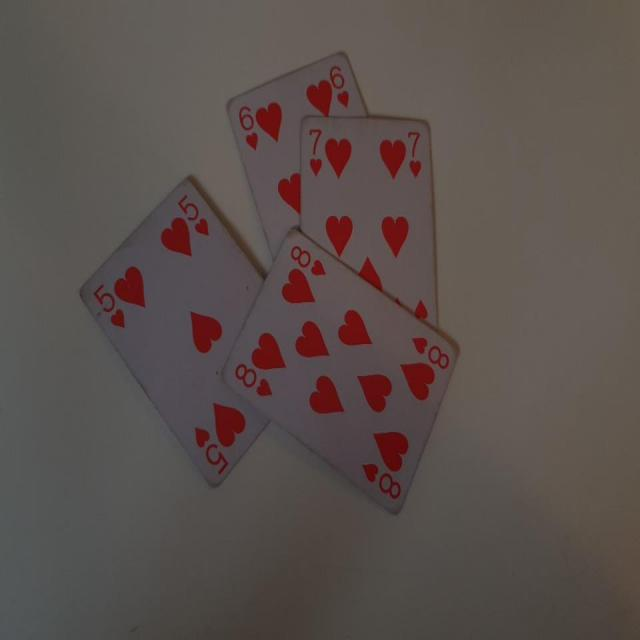5 Hearts: (79, 170, 270, 492)
6 Hearts: (223, 31, 370, 288)
7 Hearts: (295, 115, 450, 328)
8 Hearts: (222, 217, 463, 517)
